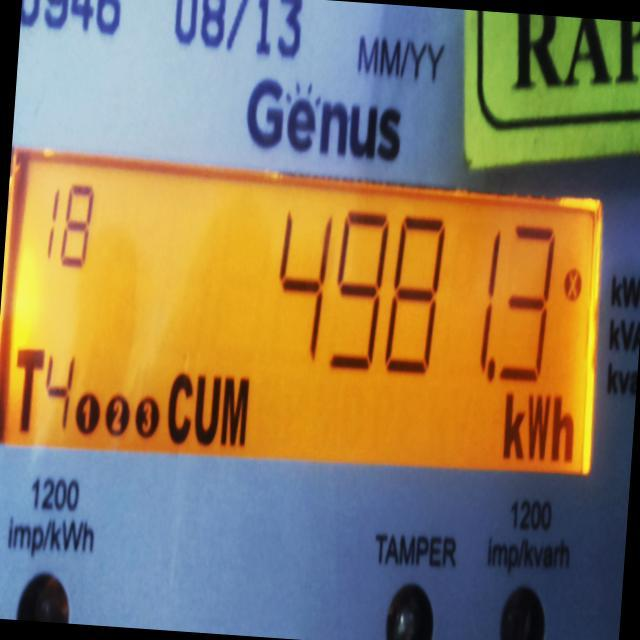LCD: (0, 144, 606, 495)
